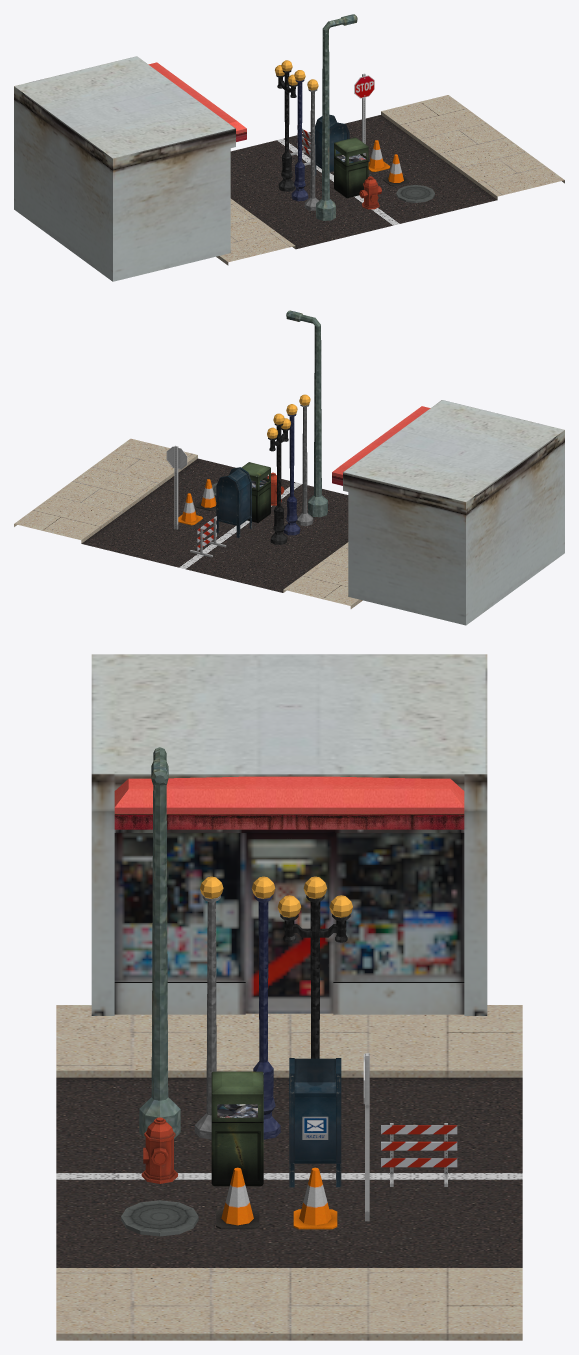
File: UrbanPack1.fbx
3 renders of one model, top to bottom at view 1: azimuth 30°, elevation 25°; view 2: azimuth 150°, elevation 25°; view 3: azimuth 270°, elevation 25°, orthographic. The views are drawn at different scales.
Parts seen in each view (by area): view 1: Shop.001, RoadStraight.001, LampPost.001, TrashCan.001, LampPost.003, LampPost.004, Mailbox.001, Awning.001, LampPost.002, StopSign, ManholeCover.001, FireHydrant.001 (+3 smaller); view 2: Shop.001, RoadStraight.001, LampPost.001, Mailbox.001, TrashCan.001, LampPost.003, LampPost.004, Awning.001, LampPost.002, StopSign, RoadBarrier.001, TrafficCone.002; view 3: RoadStraight.001, Shop.001, Awning.001, LampPost.001, TrashCan.001, Mailbox.001, LampPost.003, LampPost.002, RoadBarrier.001, ManholeCover.001, LampPost.004, FireHydrant.001 (+4 smaller).
Boxes of the visible parts, x1,y1,x2,y2 form: Shop.001: (14, 56, 235, 281); RoadStraight.001: (216, 95, 564, 265); LampPost.001: (316, 14, 357, 220); TrashCan.001: (334, 137, 368, 198); LampPost.003: (291, 70, 308, 201); LampPost.004: (278, 60, 295, 191); Mailbox.001: (315, 114, 349, 175); Awning.001: (148, 62, 246, 141); LampPost.002: (304, 79, 318, 210); StopSign: (354, 73, 374, 155); ManholeCover.001: (396, 185, 434, 202); FireHydrant.001: (359, 176, 381, 209); Shop.001: (343, 400, 564, 625); RoadStraight.001: (14, 438, 362, 608); LampPost.001: (286, 310, 327, 517); Mailbox.001: (216, 467, 251, 537); TrashCan.001: (241, 462, 270, 522); LampPost.003: (283, 404, 300, 535); LampPost.004: (270, 413, 287, 544); Awning.001: (332, 406, 430, 485); LampPost.002: (296, 394, 313, 525); StopSign: (166, 445, 187, 529); RoadBarrier.001: (190, 516, 226, 557); TrafficCone.002: (178, 493, 202, 525); RoadStraight.001: (56, 1005, 522, 1340); Shop.001: (91, 654, 487, 1015); Awning.001: (114, 776, 464, 829); LampPost.001: (139, 747, 180, 1138); TrashCan.001: (211, 1071, 263, 1186); Mailbox.001: (289, 1058, 341, 1187); LampPost.003: (251, 876, 280, 1139); LampPost.002: (194, 876, 223, 1139); RoadBarrier.001: (381, 1123, 457, 1186); ManholeCover.001: (121, 1200, 198, 1236); LampPost.004: (303, 876, 327, 1058); FireHydrant.001: (141, 1117, 177, 1183).
Size of the model in its own units: 3950 by 1661 by 1800.
Materials: 15 (15 with a texture image).
